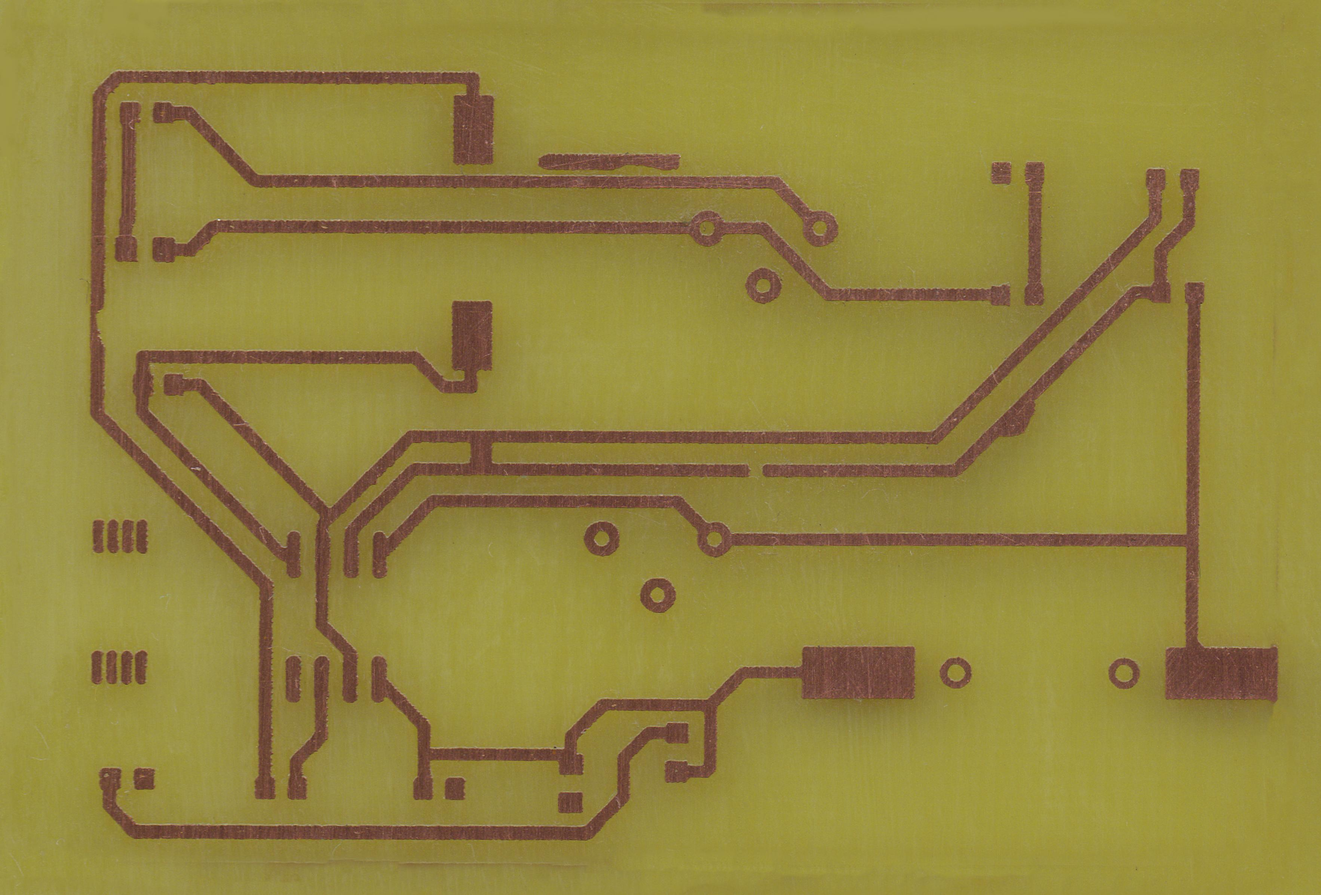mouse_bite: (86, 296, 117, 354)
open_circuit: (740, 457, 777, 484)
short: (464, 423, 502, 479)
spur: (993, 393, 1037, 445)
spurious_copper: (526, 147, 687, 176)
